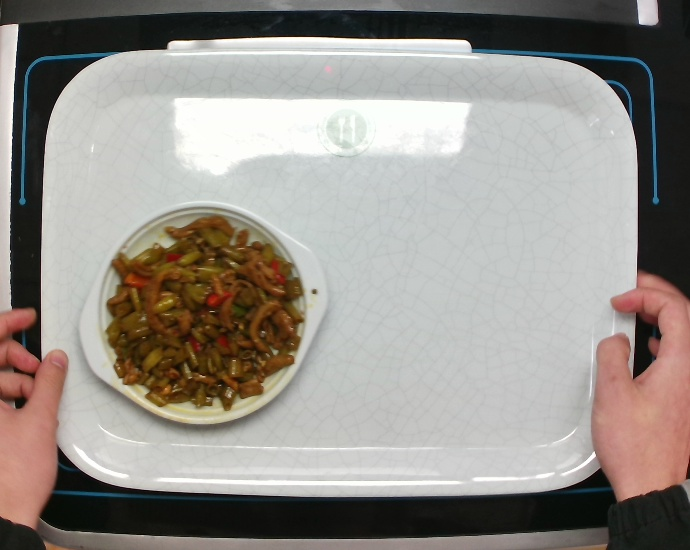JYsf-Shuang_Er_Pan: (70, 195, 335, 429)
